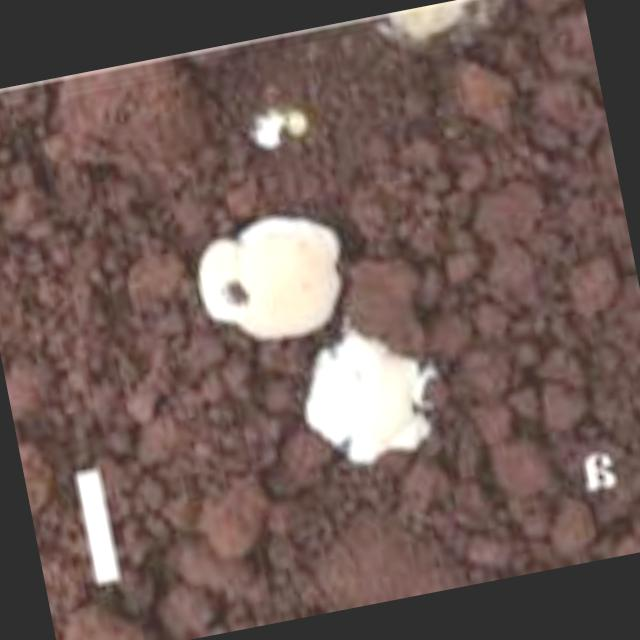primordium: (286, 303, 457, 480), (185, 202, 359, 357)
